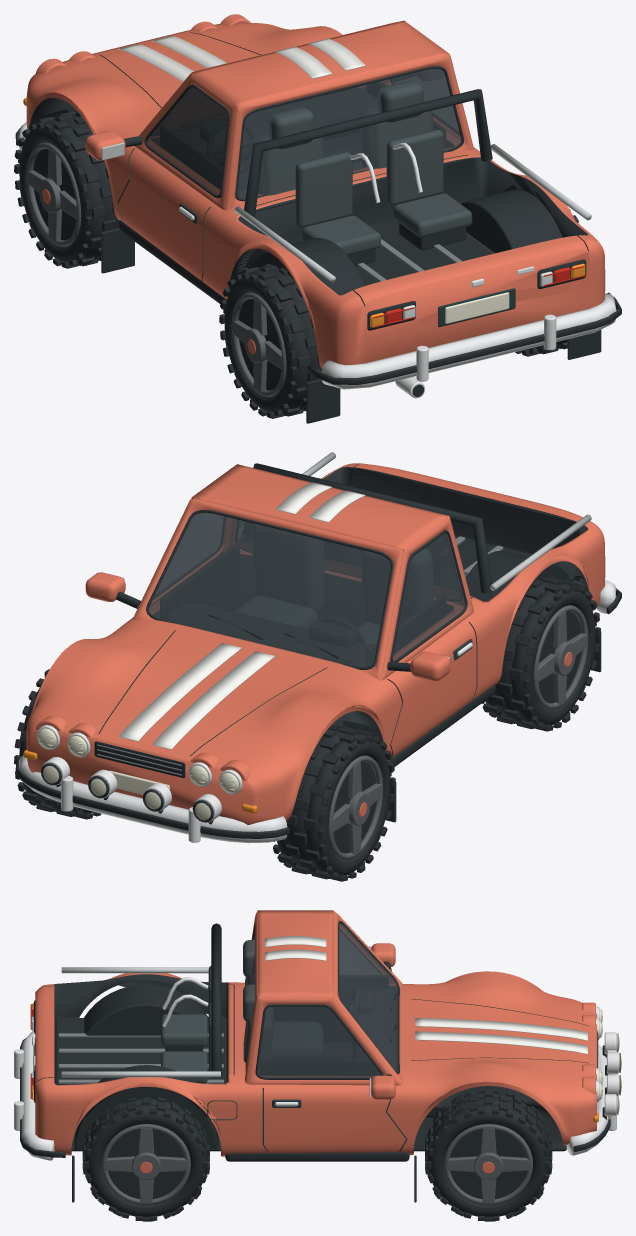
Rendered from kiri.fbx.
3 views of the same model, one above another, from view 1: azimuth 30°, elevation 25°; view 2: azimuth 150°, elevation 25°; view 3: azimuth 270°, elevation 25° (orthographic). The views are drawn at different scales.
Visible parts, largest first — view 1: Body, Wheel_FL_Mesh, Wheel_RL_Mesh; view 2: Body, Wheel_FL_Mesh, Wheel_RL_Mesh, Wheel_FR_Mesh; view 3: Body, Wheel_FR_Mesh, Wheel_RR_Mesh.
Part boxes in pixels (x1,y1,x2,y2): Body: [15, 14, 621, 423]; Wheel_FL_Mesh: [14, 111, 119, 268]; Wheel_RL_Mesh: [219, 264, 321, 418]; Body: [15, 452, 621, 843]; Wheel_FL_Mesh: [273, 725, 395, 881]; Wheel_RL_Mesh: [482, 576, 600, 731]; Wheel_FR_Mesh: [14, 669, 101, 819]; Body: [14, 910, 621, 1202]; Wheel_FR_Mesh: [425, 1089, 552, 1221]; Wheel_RR_Mesh: [82, 1097, 209, 1221].
Bounding box in the file's own units: 234 × 162 × 416.
